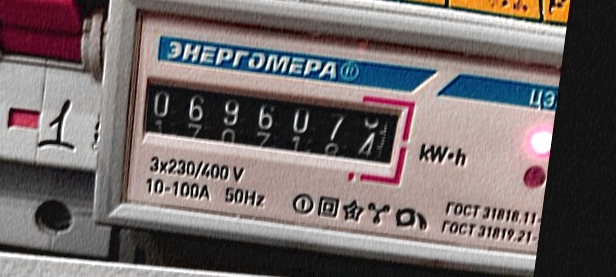0: (151, 87, 176, 119), (292, 104, 315, 135)
4: (357, 128, 379, 159)
6: (256, 99, 280, 133), (187, 91, 210, 123)
7: (327, 108, 349, 141)
9: (222, 96, 245, 127)
screen: (128, 58, 421, 187)
